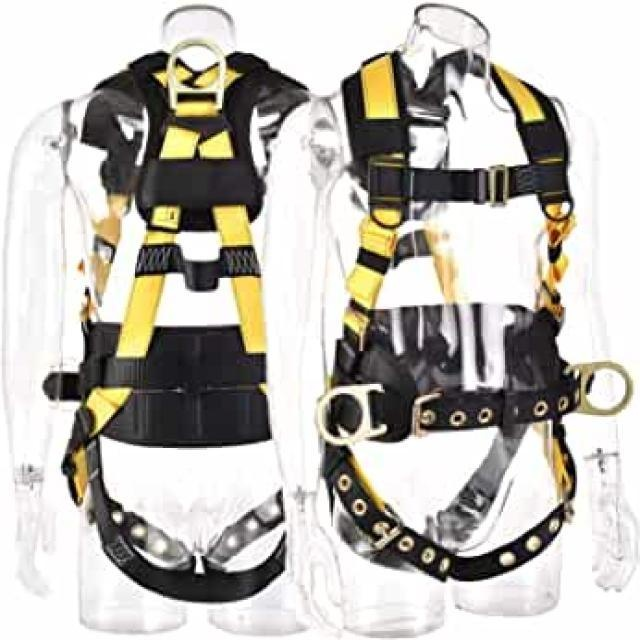Arnes_seguridad: (320, 41, 584, 586), (73, 57, 312, 604)
